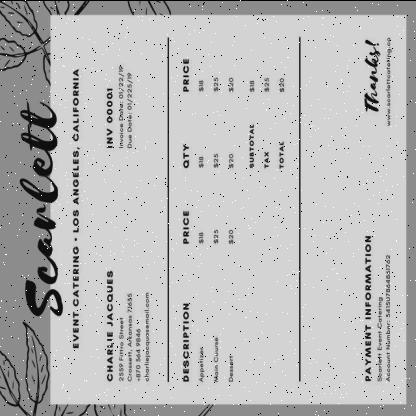Paragraph: (19, 66, 82, 352), (104, 268, 152, 384), (362, 232, 394, 384), (246, 69, 288, 171), (362, 34, 394, 130), (104, 64, 135, 150)
Table: (167, 37, 237, 387)
